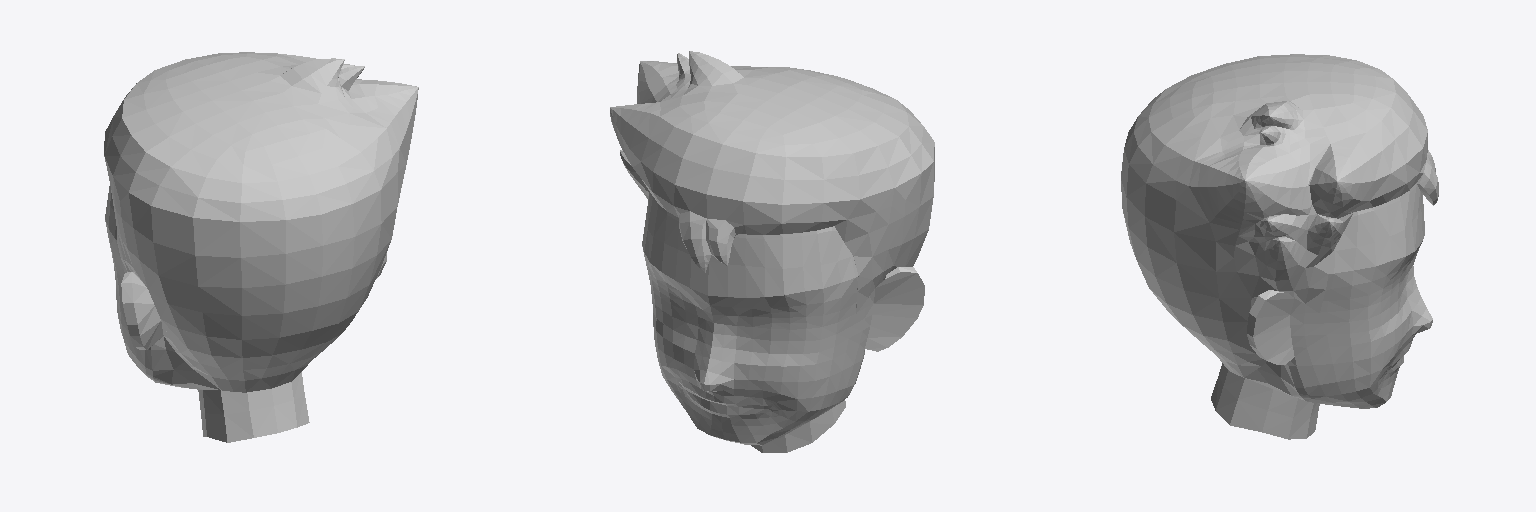
File: cabeza2Oak.obj
3 views of the same model, side by side, from view 1: azimuth 30°, elevation 25°; view 2: azimuth 150°, elevation 25°; view 3: azimuth 270°, elevation 25° (orthographic).
Parts seen in each view (by area): view 1: Cabeza.003_hair, Head, Neck, Spine3, Cabeza.003_skin; view 2: Cabeza.003_hair, Cabeza.003_eye, Head, Cabeza.003_skin, LSideLip, Spine3, Neck, LowerLip, RSideLip; view 3: Cabeza.003_hair, Head, Cabeza.003_eye, Neck, Spine3.
Boxes of the visible parts, <box> form: Cabeza.003_hair: <box>104,52,418,392</box>; Head: <box>109,230,386,413</box>; Neck: <box>198,372,304,437</box>; Spine3: <box>201,397,309,442</box>; Cabeza.003_skin: <box>109,193,139,368</box>; Cabeza.003_hair: <box>610,51,934,313</box>; Cabeza.003_eye: <box>642,193,841,366</box>; Head: <box>649,192,924,444</box>; Cabeza.003_skin: <box>723,226,866,445</box>; LSideLip: <box>749,383,807,424</box>; Spine3: <box>751,400,845,452</box>; Neck: <box>772,405,837,451</box>; LowerLip: <box>701,398,741,424</box>; RSideLip: <box>661,354,692,407</box>; Cabeza.003_hair: <box>1121,54,1438,377</box>; Head: <box>1219,184,1432,417</box>; Cabeza.003_eye: <box>1349,185,1424,344</box>; Neck: <box>1216,368,1319,438</box>; Spine3: <box>1211,376,1317,439</box>.
Bounding box in the file's own units: 3.72 × 4.43 × 3.52.